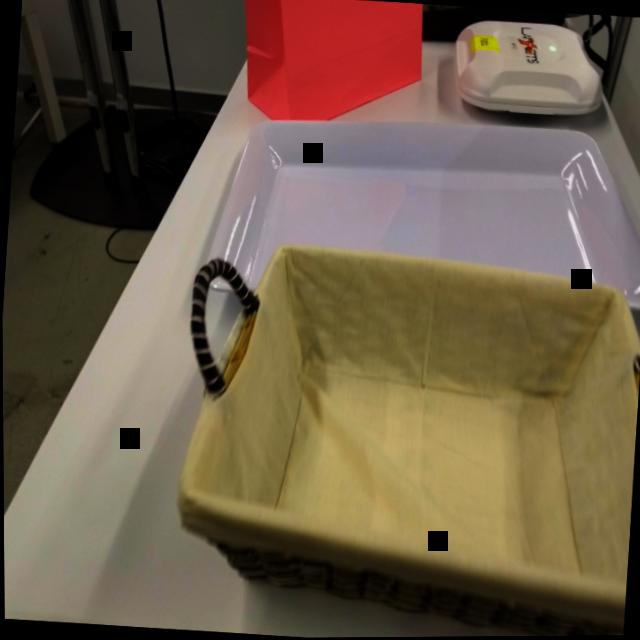basket: (161, 231, 640, 639)
help_me_carry_opl: (229, 0, 429, 134)
tray: (198, 103, 640, 334)
